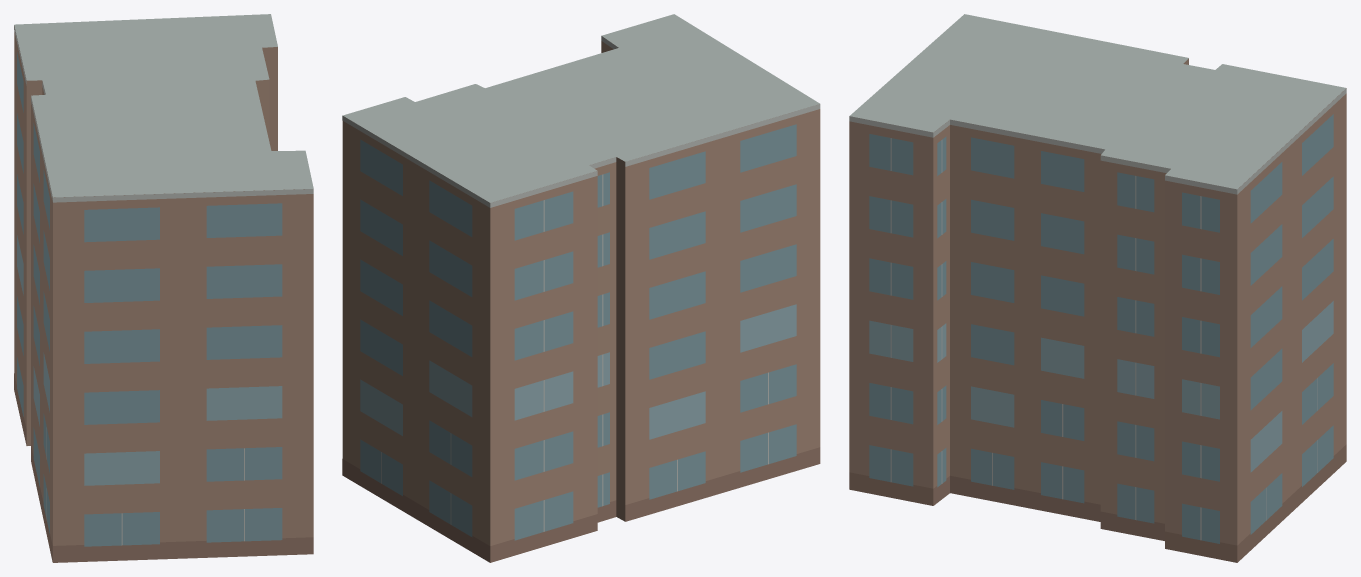
The model's file is survey-upis-32755554.glb.
3 views of the same model, side by side, from view 1: azimuth 30°, elevation 25°; view 2: azimuth 150°, elevation 25°; view 3: azimuth 270°, elevation 25° (orthographic). The views are drawn at different scales.
Visible parts, largest first — view 1: survey-upis-32755554.tmp; view 2: survey-upis-32755554.tmp; view 3: survey-upis-32755554.tmp.
Part boxes in pixels (x1,y1,x2,y2): survey-upis-32755554.tmp: (14,14,313,562); survey-upis-32755554.tmp: (342,14,820,562); survey-upis-32755554.tmp: (849,14,1346,562).
Bounding box in the file's own units: 17.53 × 17.4 × 21.
